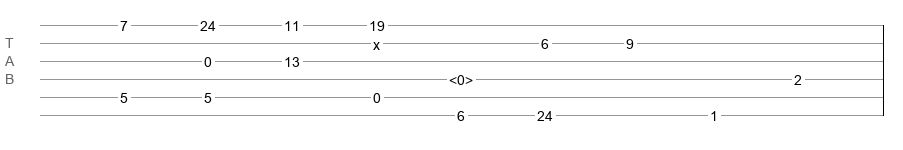0: (204, 54, 212, 64), (373, 90, 381, 100)
1: (710, 108, 718, 118)
11: (284, 18, 300, 28)
13: (284, 54, 300, 64)
19: (369, 18, 385, 28)
2: (794, 72, 802, 82)
24: (200, 18, 216, 28), (537, 108, 553, 118)
5: (120, 90, 128, 100), (204, 90, 212, 100)
6: (457, 108, 465, 118), (541, 36, 549, 46)
7: (120, 18, 128, 28)
9: (626, 36, 634, 46)
harmonic: (449, 72, 473, 82)
x: (373, 37, 380, 45)
